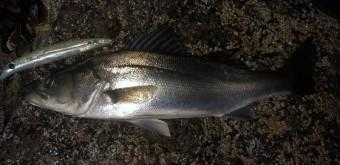fish: (25, 26, 314, 135)
